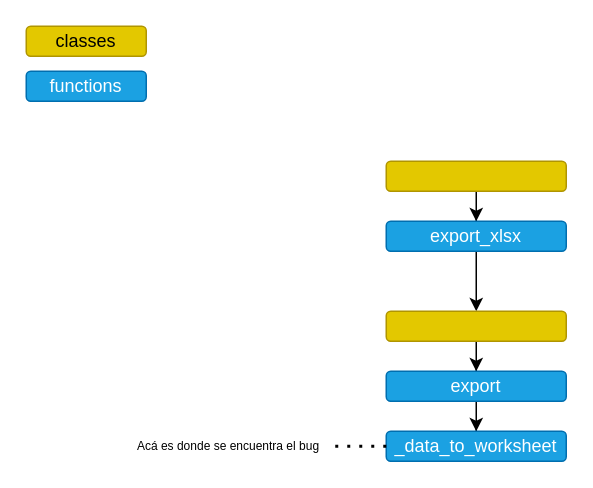
The diagram is 593 pixels wide and 488 high, and some of its shapes have lost their labels. The box of each missing label's shape, as (x1, y1, x2, y2) in pixels:
CFDIExporter: (385, 160, 566, 191)
XLSXExporter: (385, 310, 566, 341)
